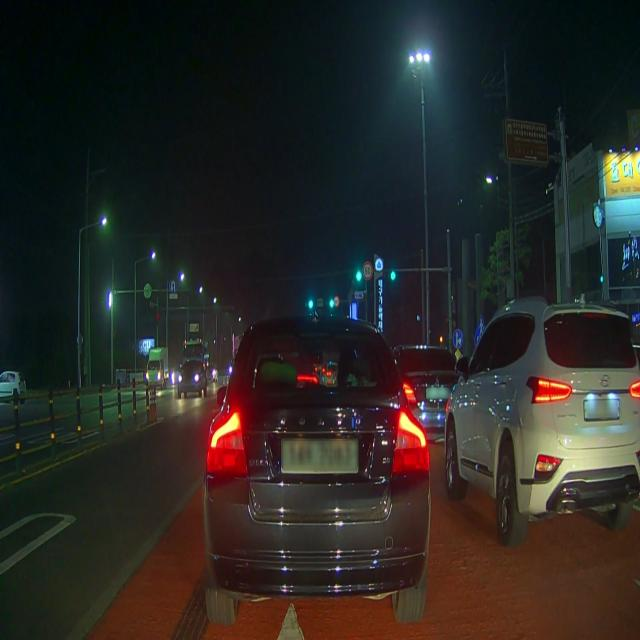Green Light: (356, 270, 362, 282), (308, 299, 314, 309), (391, 271, 396, 281), (329, 299, 334, 308)
